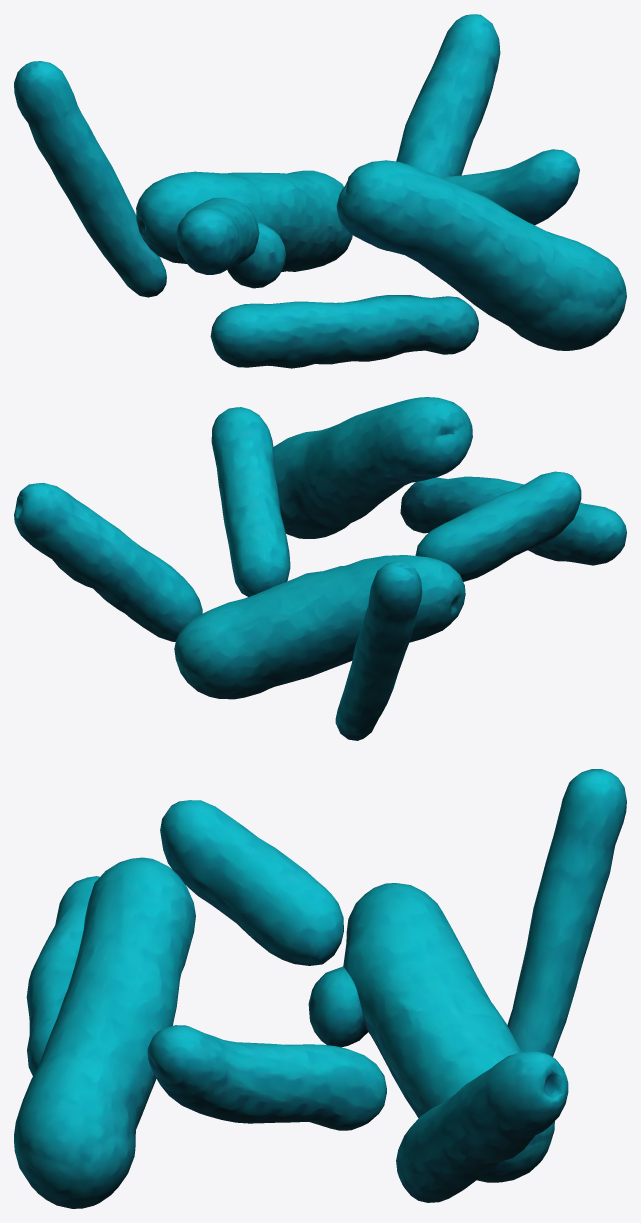
File: ENM_BacillusSlime.glb
3 views of the same model, one above another, from view 1: azimuth 30°, elevation 25°; view 2: azimuth 150°, elevation 25°; view 3: azimuth 270°, elevation 25° (orthographic). The views are drawn at different scales.
Visible parts, largest first — view 1: Object_5; view 2: Object_5; view 3: Object_5.
Part boxes in pixels (bbox=[...]): Object_5: bbox=[14, 14, 626, 368]; Object_5: bbox=[14, 397, 626, 740]; Object_5: bbox=[14, 769, 626, 1208].
Size of the model in its own units: 0.68 by 0.3201 by 0.6452.
1 material, 1 textured.
